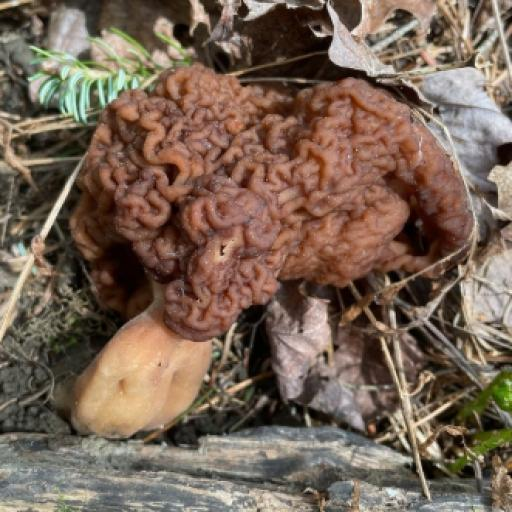mushroom: (69, 65, 474, 356)
